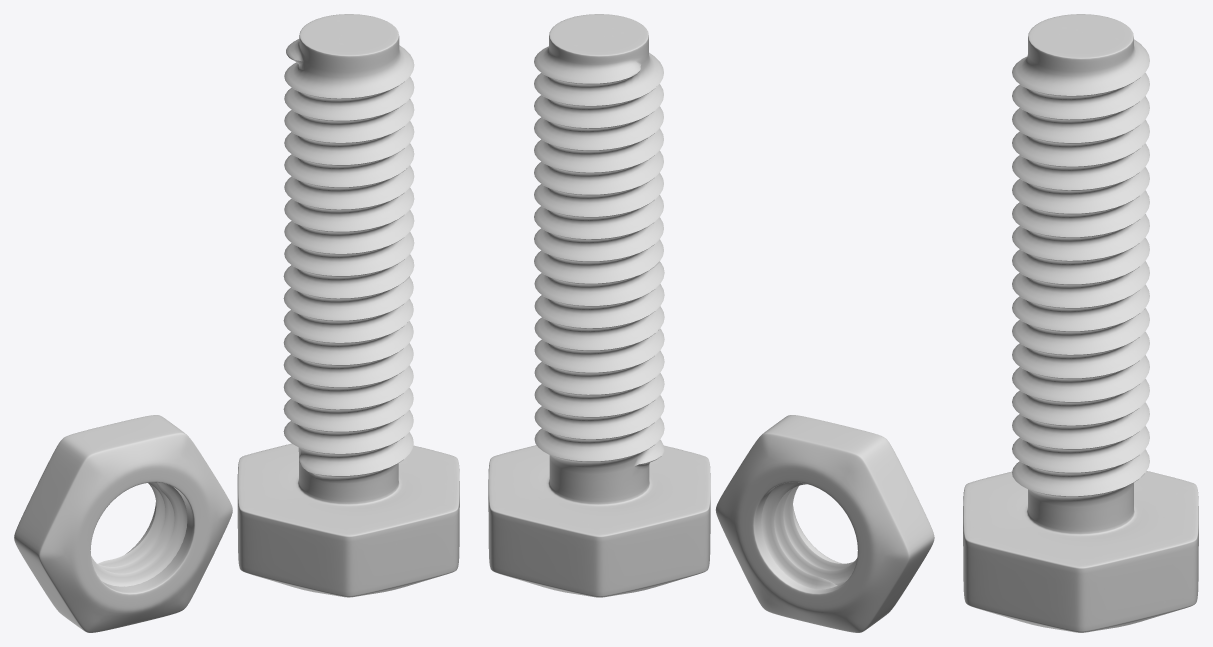
File: Silver Plating.glb
The picture shows the model from 3 angles, left to right: view 1: azimuth 30°, elevation 25°; view 2: azimuth 150°, elevation 25°; view 3: azimuth 270°, elevation 25°; orthographic projection. The views are drawn at different scales.
Visible parts, largest first — view 1: Hex Screw_nut_; view 2: Hex Screw_nut_; view 3: Hex Screw_nut_.
Part boxes in pixels (x1,y1,x2,y2): Hex Screw_nut_: (14,14,459,632); Hex Screw_nut_: (488,14,934,632); Hex Screw_nut_: (963,14,1198,632).
Bounding box in the file's own units: 0.0197 × 0.0229 × 0.00879.
1 material, 1 textured.
